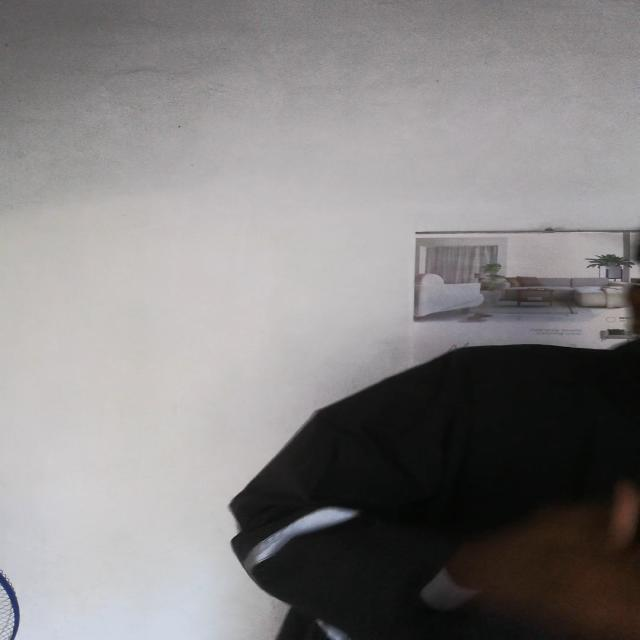Jacket_Wearer: (222, 297, 640, 640)
